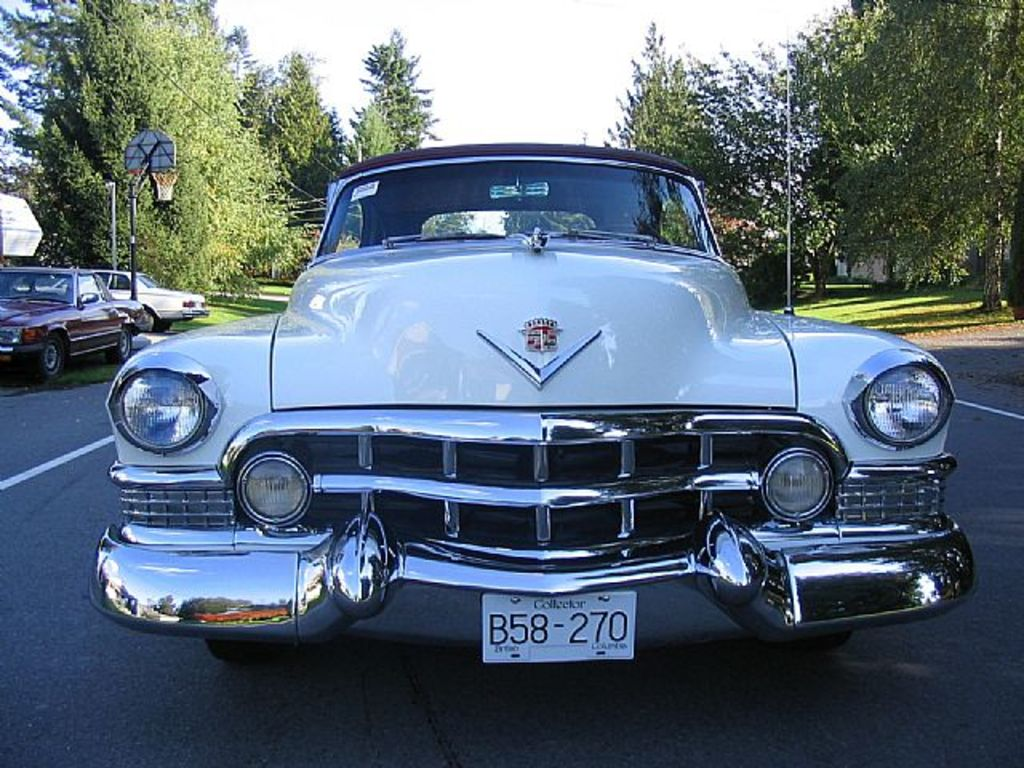Car: (84, 135, 977, 665), (0, 265, 135, 375), (86, 267, 214, 332)
